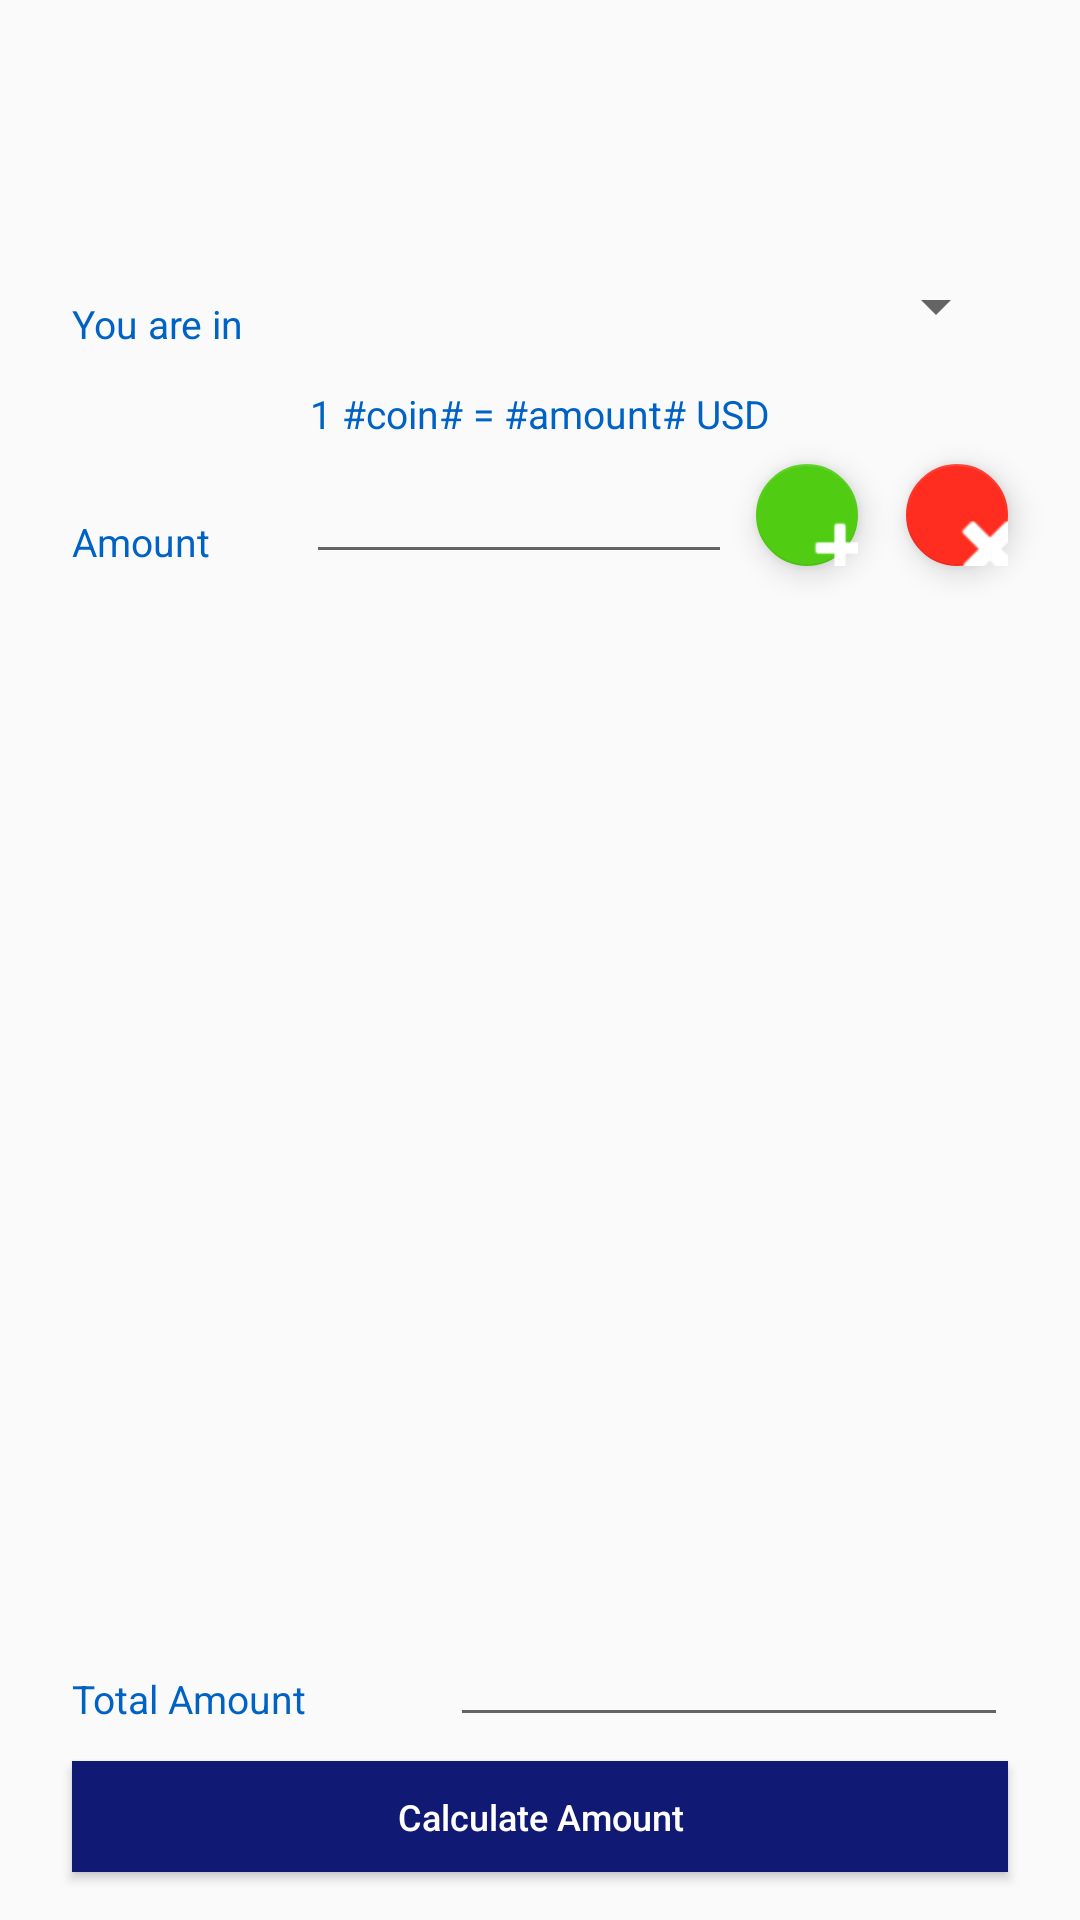

Icons on this 1080px×1920px Android screen, each with the point to tap as (x=x, y=y):
add: (x=807, y=515)
delete: (x=957, y=515)
